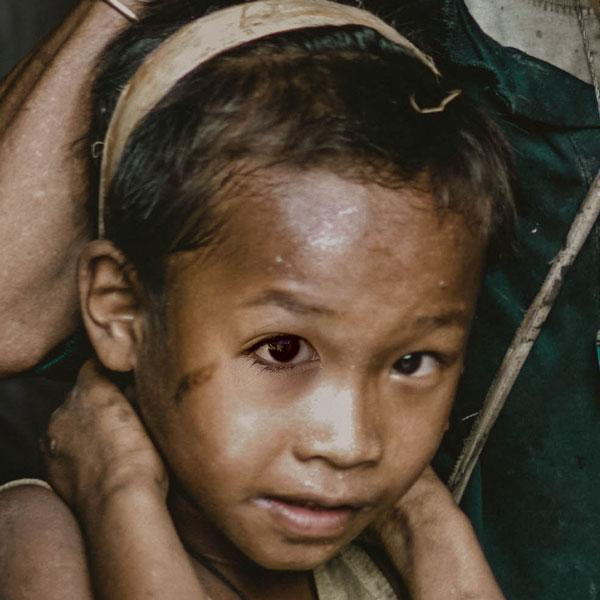Eyes: (234, 319, 328, 380), (379, 334, 448, 389)
